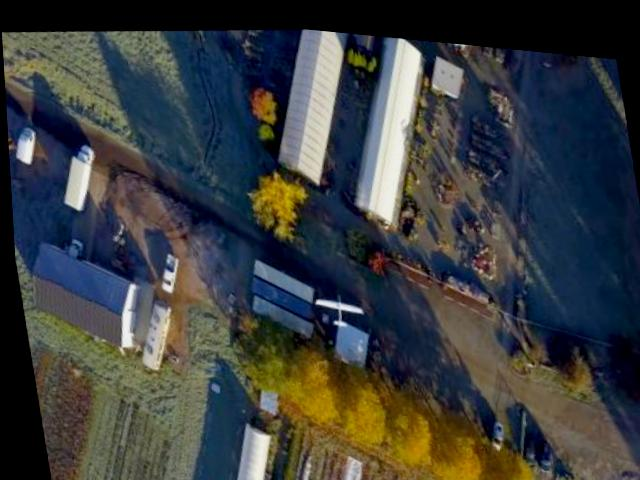uav: (308, 283, 364, 324)
